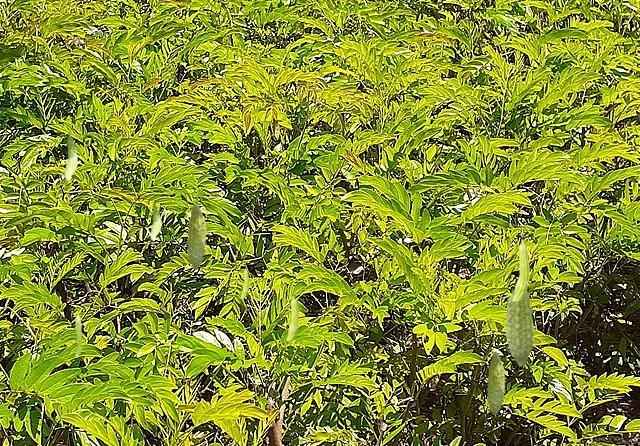ampalaya: (504, 289, 534, 367), (186, 203, 207, 270), (486, 351, 506, 415), (511, 239, 530, 301), (64, 129, 78, 181), (285, 295, 299, 341), (150, 198, 161, 241), (240, 267, 249, 299), (75, 314, 81, 357)
